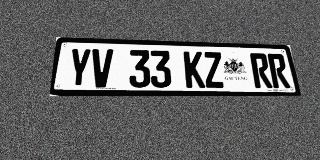3: (129, 50, 150, 88), (150, 50, 171, 88)
K: (183, 51, 205, 88)
R: (249, 53, 273, 88), (267, 53, 291, 88)
V: (90, 49, 113, 88)
Y: (66, 48, 92, 88)
Z: (203, 52, 225, 88)
